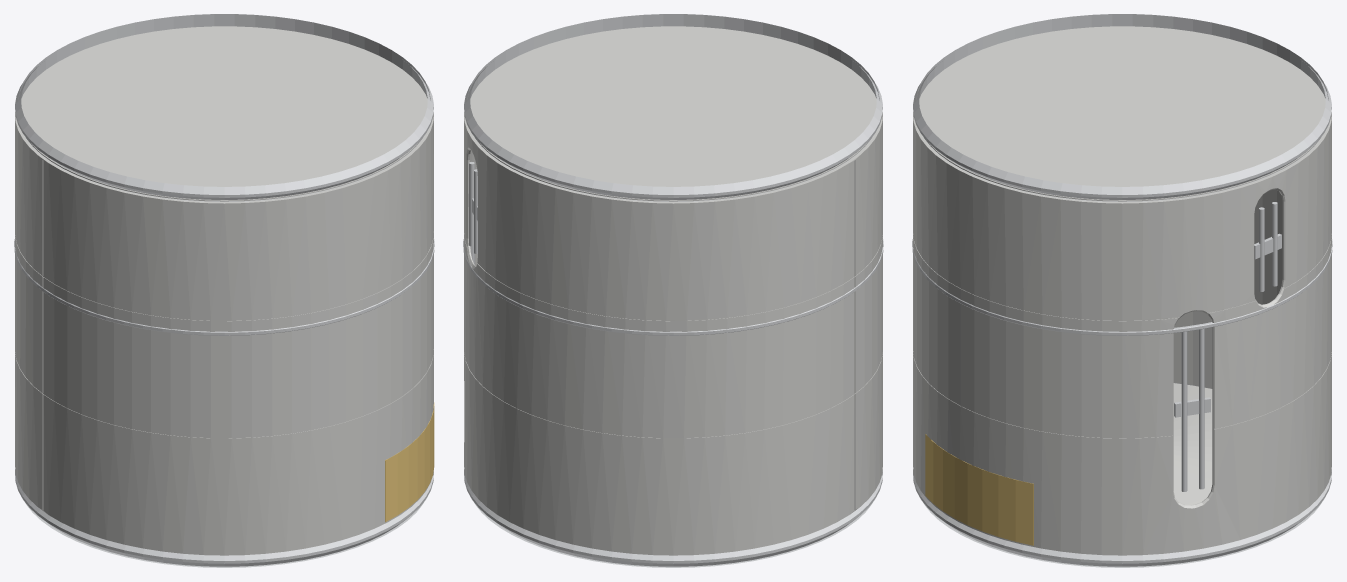
File: ax_tank_03_heavy_methalox_xxl_short.glb
3 views of the same model, side by side, from view 1: azimuth 30°, elevation 25°; view 2: azimuth 150°, elevation 25°; view 3: azimuth 270°, elevation 25° (orthographic).
Parts seen in each view (by area): view 1: tank_barrel, dome_caps, end_rings, mli_patch, common_bulkhead_ring; view 2: tank_barrel, dome_caps, end_rings, common_bulkhead_ring, raceway_lines; view 3: tank_barrel, dome_caps, end_rings, mli_patch, raceway_lines, common_bulkhead_ring.
Part boxes in pixels (x1,y1,x2,y2): tank_barrel: (15,112,433,555); dome_caps: (21,26,427,555); end_rings: (15,14,433,567); mli_patch: (385,402,434,522); common_bulkhead_ring: (14,239,434,335); tank_barrel: (464,112,882,555); dome_caps: (470,26,876,555); end_rings: (464,14,882,567); common_bulkhead_ring: (463,239,883,335); raceway_lines: (468,162,477,264); tank_barrel: (913,112,1331,555); dome_caps: (919,26,1325,555); end_rings: (913,14,1331,567); mli_patch: (925,434,1033,545); raceway_lines: (1174,202,1281,491); common_bulkhead_ring: (912,239,1332,335).
Bounding box in the file's own units: 7.52 × 7.5 × 7.52.
